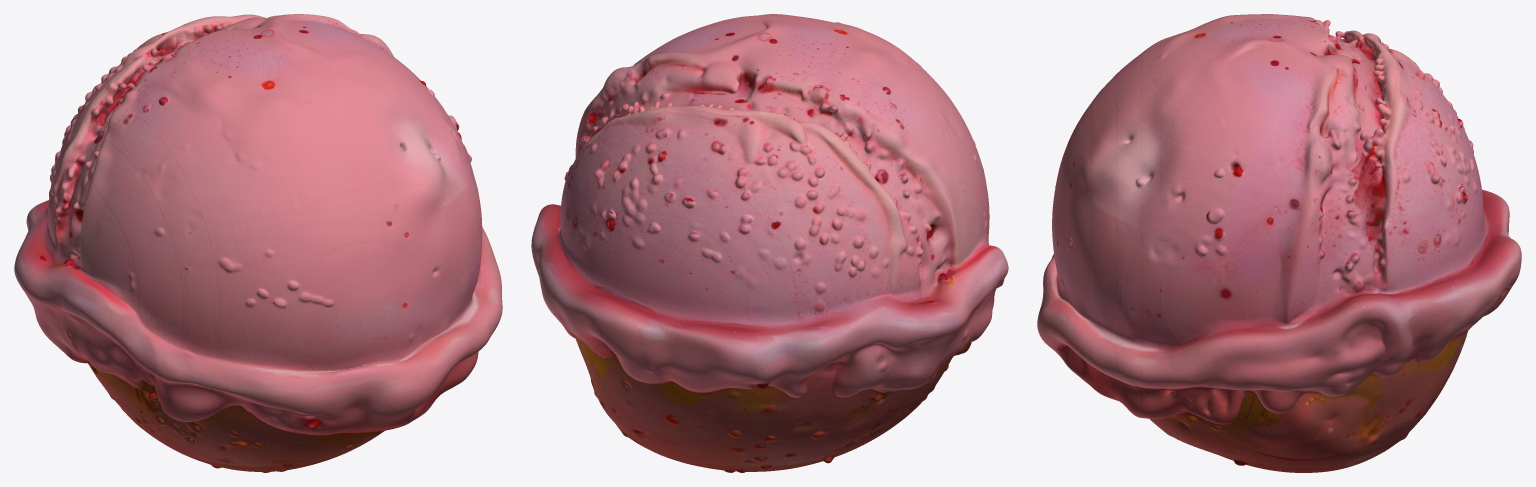
The model's file is scoop_fresa.glb.
3 views of the same model, side by side, from view 1: azimuth 30°, elevation 25°; view 2: azimuth 150°, elevation 25°; view 3: azimuth 270°, elevation 25° (orthographic). The views are drawn at different scales.
Visible parts, largest first — view 1: tripo_node_c6570a48-a106-4958-b673-5e4e566fbdaf; view 2: tripo_node_c6570a48-a106-4958-b673-5e4e566fbdaf; view 3: tripo_node_c6570a48-a106-4958-b673-5e4e566fbdaf.
Part boxes in pixels (x1=…): tripo_node_c6570a48-a106-4958-b673-5e4e566fbdaf: x1=14, y1=14, x2=502, y2=472; tripo_node_c6570a48-a106-4958-b673-5e4e566fbdaf: x1=531, y1=14, x2=1008, y2=472; tripo_node_c6570a48-a106-4958-b673-5e4e566fbdaf: x1=1037, y1=14, x2=1521, y2=472.
Bounding box in the file's own units: 0.9714 × 0.9359 × 1.
Materials: 1 (1 with a texture image).
